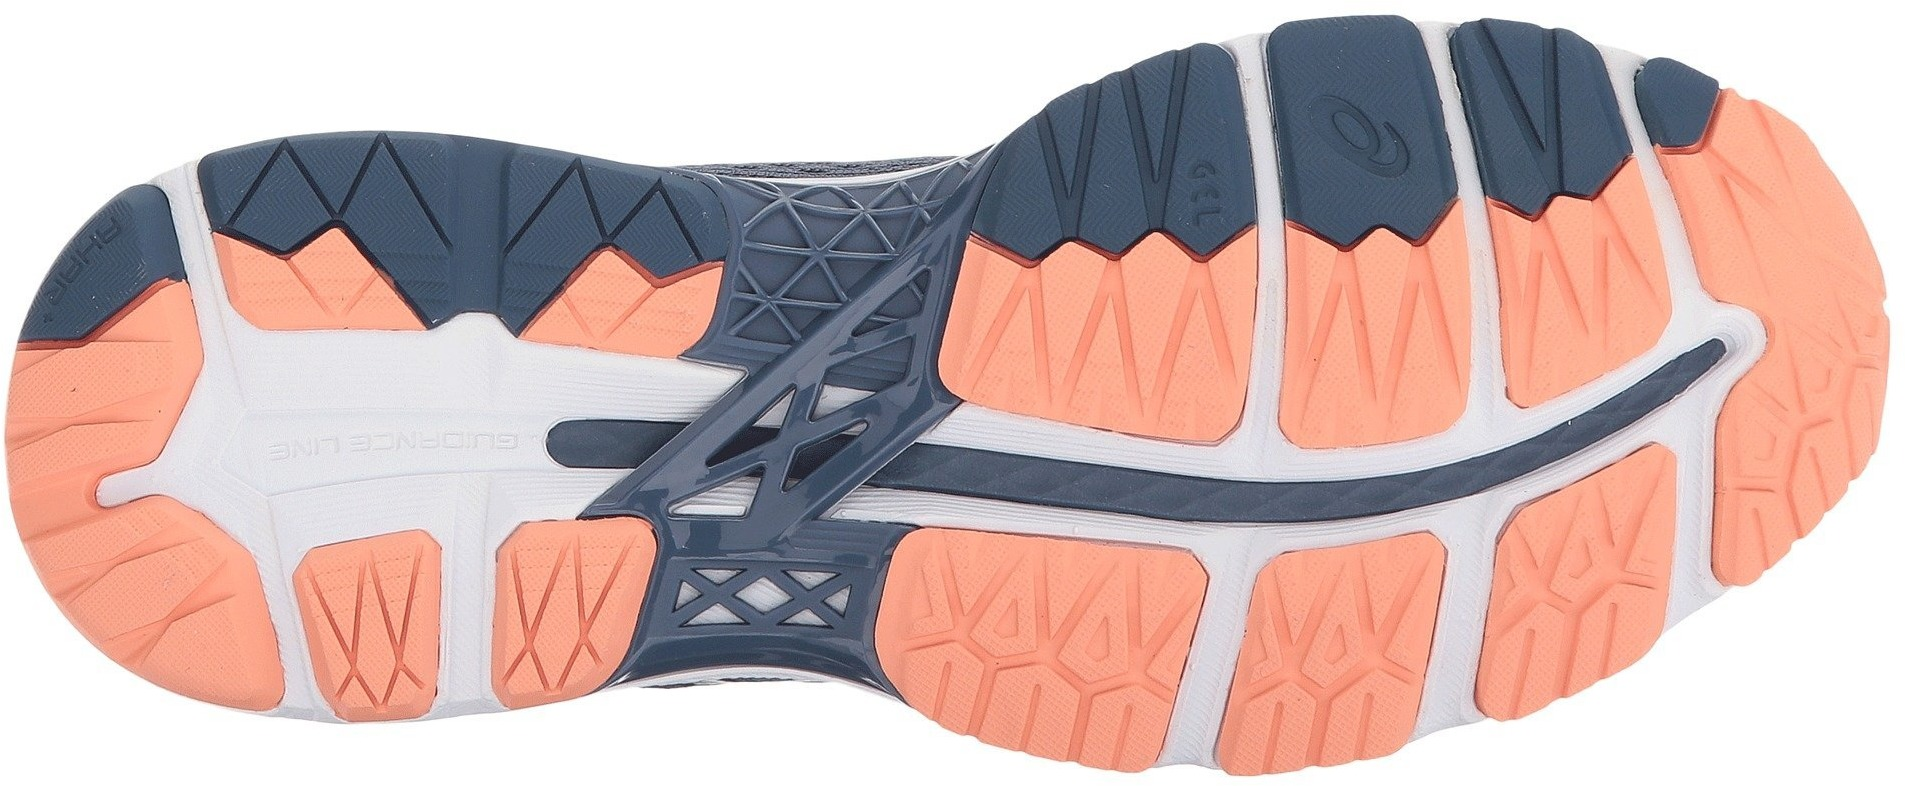chevron: (1261, 200, 1507, 437), (946, 191, 1191, 419)
circle: (1281, 55, 1440, 204)
exclude: (326, 1, 1039, 219), (192, 635, 895, 786)
quad: (1219, 524, 1451, 764), (945, 535, 1194, 754)
ribbon: (164, 277, 497, 587), (665, 330, 940, 558), (1125, 398, 1344, 599)
triangle: (494, 151, 701, 357), (231, 140, 450, 329), (281, 531, 467, 701)
